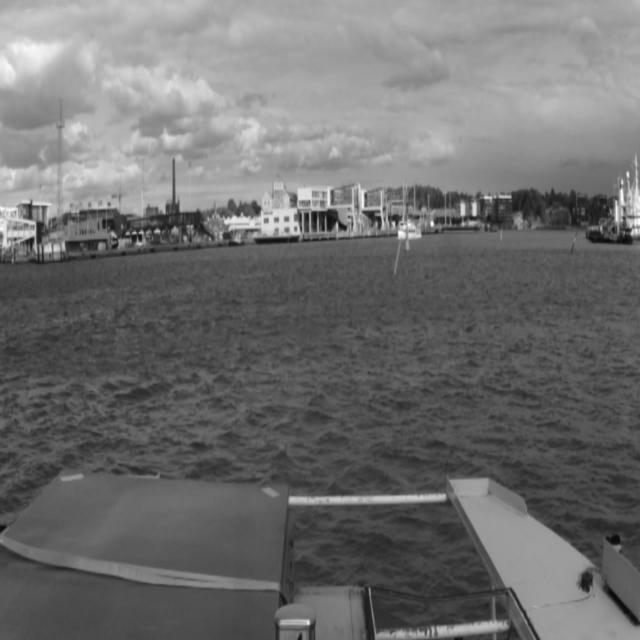buoy: (393, 236, 403, 276), (403, 223, 411, 254), (570, 230, 578, 255), (499, 227, 503, 244)
ship: (397, 220, 423, 240)
